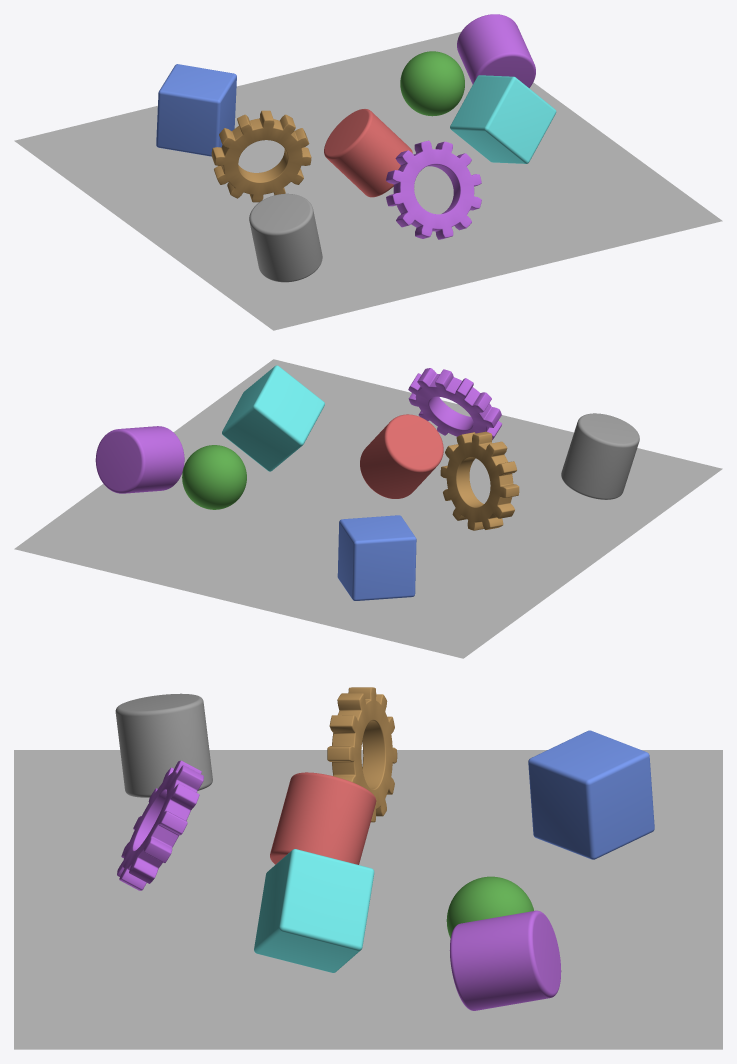
3 views of the same model, one above another, from view 1: azimuth 30°, elevation 25°; view 2: azimuth 150°, elevation 25°; view 3: azimuth 270°, elevation 25° (orthographic). The views are drawn at different scales.
Visible parts, largest first — view 1: Cube, FileBasedObject.006, FileBasedObject.005, FileBasedObject.003, FileBasedObject.004, FileBasedObject.002, FileBasedObject, FileBasedObject.001, FileBasedObject.007; view 2: Cube, FileBasedObject.006, FileBasedObject.005, FileBasedObject.001, FileBasedObject.002, FileBasedObject.004, FileBasedObject, FileBasedObject.003, FileBasedObject.007; view 3: Cube, FileBasedObject.005, FileBasedObject.006, FileBasedObject.001, FileBasedObject.002, FileBasedObject, FileBasedObject.004, FileBasedObject.003, FileBasedObject.007.
Boxes of the visible parts, left/top/right/bottom form: Cube: left=14, top=32, right=722, bottom=330; FileBasedObject.006: left=450, top=75, right=556, bottom=163; FileBasedObject.005: left=156, top=64, right=236, bottom=156; FileBasedObject.003: left=386, top=140, right=481, bottom=239; FileBasedObject.004: left=211, top=110, right=311, bottom=202; FileBasedObject.002: left=249, top=193, right=322, bottom=282; FileBasedObject: left=324, top=109, right=412, bottom=197; FileBasedObject.001: left=457, top=14, right=535, bottom=87; FileBasedObject.007: left=400, top=51, right=464, bottom=116; Cube: left=14, top=359, right=722, bottom=658; FileBasedObject.006: left=222, top=365, right=324, bottom=471; FileBasedObject.005: left=337, top=515, right=416, bottom=600; FileBasedObject.001: left=95, top=426, right=184, bottom=493; FileBasedObject.002: left=561, top=413, right=639, bottom=499; FileBasedObject.004: left=440, top=431, right=519, bottom=530; FileBasedObject: left=360, top=414, right=443, bottom=498; FileBasedObject.003: left=408, top=368, right=501, bottom=439; FileBasedObject.007: left=182, top=445, right=246, bottom=509; Cube: left=14, top=750, right=722, bottom=1049; FileBasedObject.005: left=528, top=730, right=654, bottom=859; FileBasedObject.006: left=254, top=849, right=374, bottom=972; FileBasedObject.001: left=449, top=910, right=561, bottom=1010; FileBasedObject.002: left=115, top=693, right=212, bottom=797; FileBasedObject: left=270, top=772, right=376, bottom=864; FileBasedObject.004: left=327, top=687, right=397, bottom=822; FileBasedObject.003: left=117, top=760, right=203, bottom=890; FileBasedObject.007: left=446, top=876, right=533, bottom=938.
Size of the model in its own units: 8 by 1.67 by 8.
